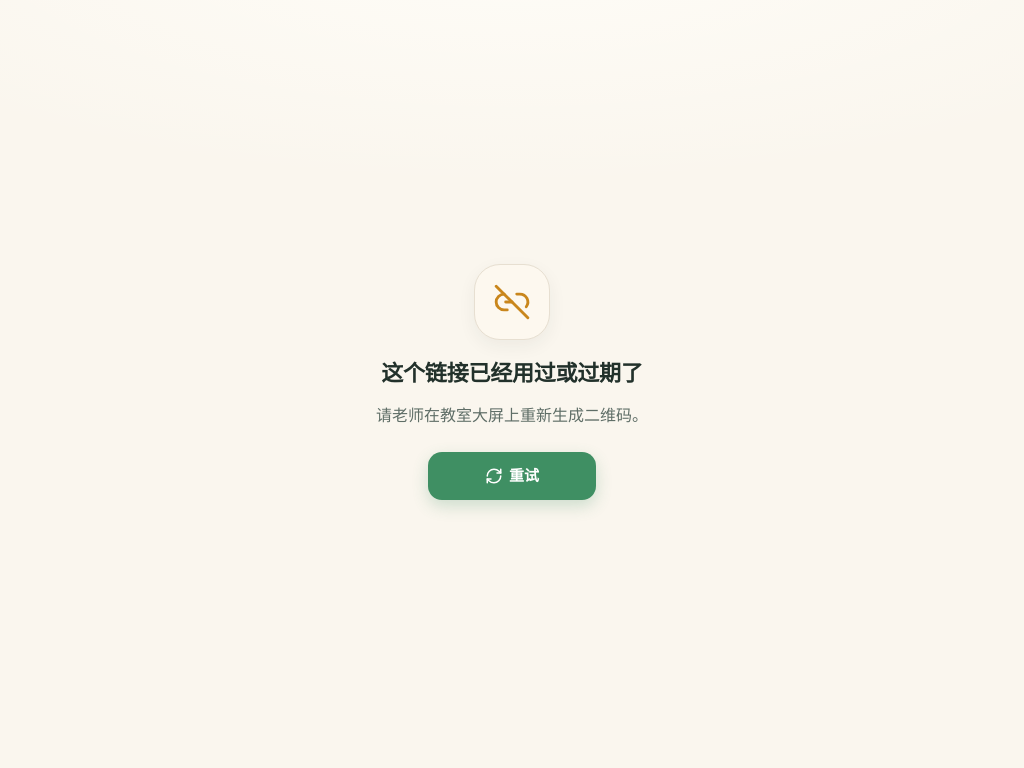
Scenario: 老师手机版 › TestRetryRecoversAfterExpiredLink
The image size is (1024, 768).
Click the button "重试".
click(512, 476)  # box [428, 452, 596, 500]
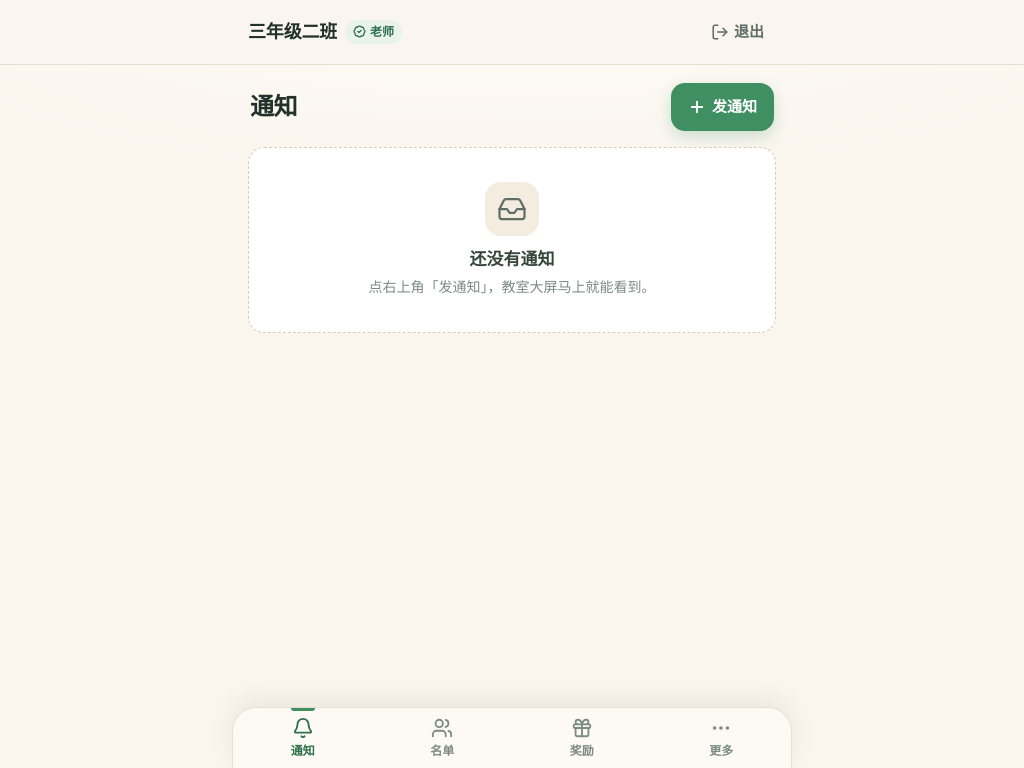
Check: the text "老师" is shown, box [345, 20, 402, 44]
Check: the text "三年级二班" is shown, box [248, 18, 337, 46]
